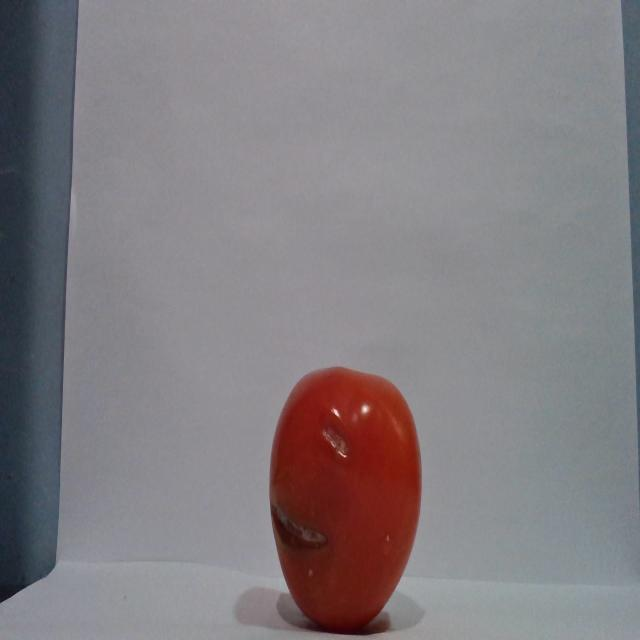Red: (267, 364, 423, 631)
